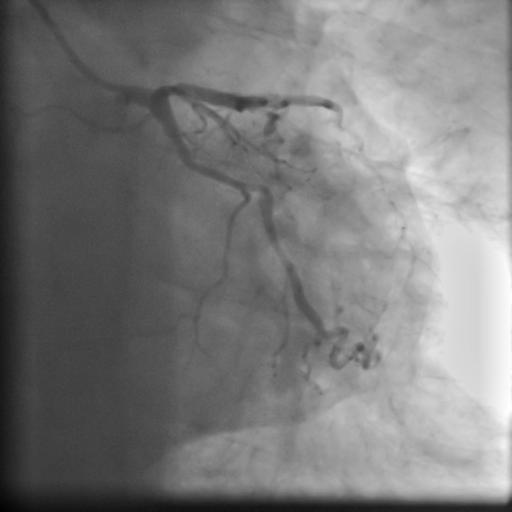Stenosis: (241, 178, 270, 197)
